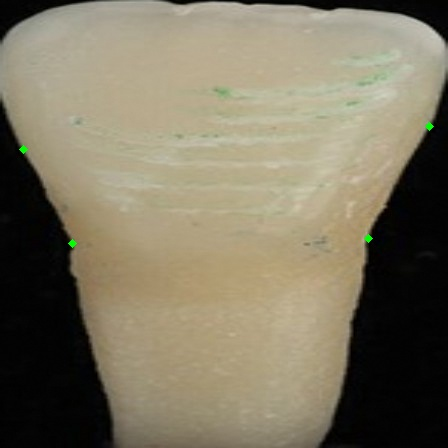coin_1: (72, 243, 92, 263)
coin_2: (23, 149, 43, 169)
coin_3: (368, 238, 388, 258)
coin_4: (429, 126, 448, 146)
